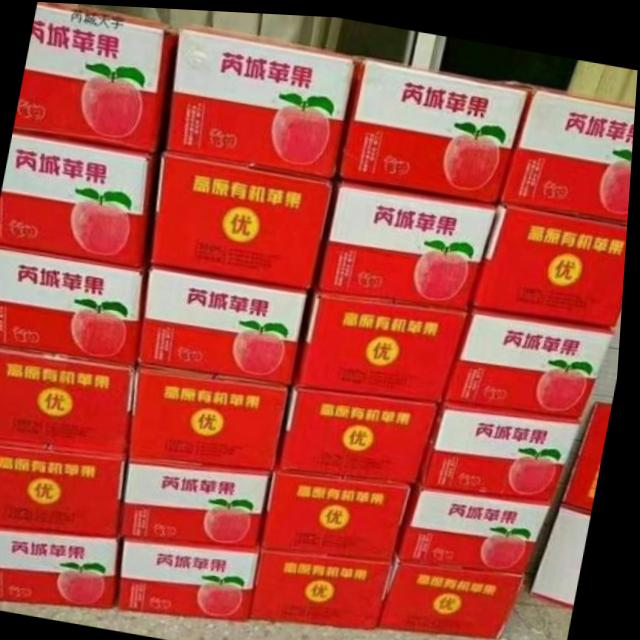box: (164, 18, 354, 178), (339, 50, 534, 199), (152, 149, 340, 288), (309, 173, 501, 305), (16, 2, 178, 153), (0, 130, 160, 268), (500, 75, 636, 219), (143, 265, 311, 380), (473, 200, 630, 323), (299, 288, 472, 394), (453, 302, 620, 411), (0, 244, 148, 364), (129, 363, 298, 466), (534, 395, 615, 603), (426, 394, 587, 497), (282, 382, 444, 479), (0, 349, 139, 453), (399, 478, 559, 566), (266, 466, 418, 557), (126, 458, 281, 545), (123, 531, 266, 620), (0, 441, 132, 534), (257, 543, 400, 625), (383, 554, 531, 632), (0, 525, 125, 603)
